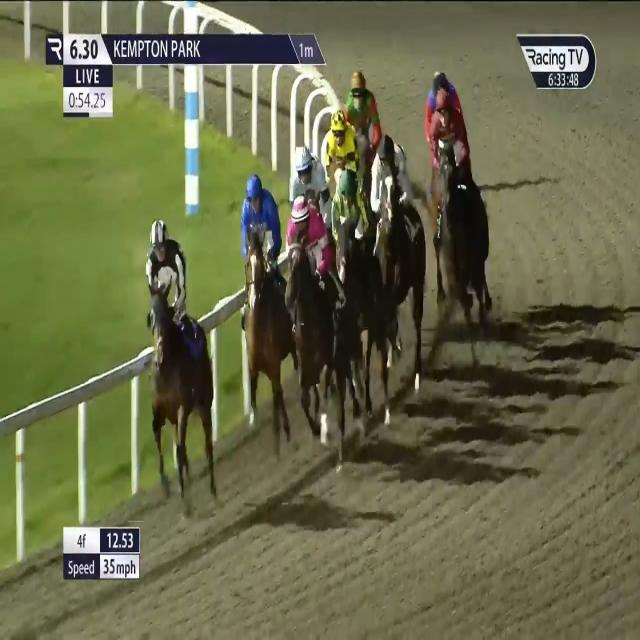horses-racing: (143, 220, 218, 478), (422, 94, 492, 315), (282, 189, 338, 427), (241, 173, 290, 414), (374, 134, 416, 372), (332, 168, 372, 400), (284, 144, 334, 225), (322, 109, 364, 185), (346, 65, 381, 150), (428, 68, 464, 131)
